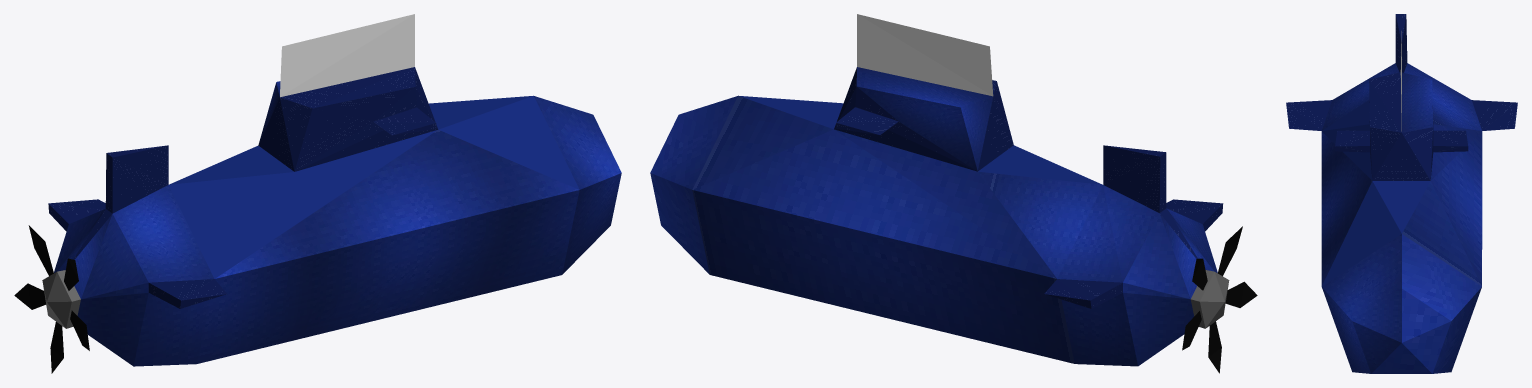
File: beach-_Submarine.fbx
3 views of the same model, side by side, from view 1: azimuth 30°, elevation 25°; view 2: azimuth 150°, elevation 25°; view 3: azimuth 270°, elevation 25° (orthographic). The views are drawn at different scales.
Parts seen in each view (by area): view 1: sub, propeller blade 0.004, propeller blade 0; view 2: sub, propeller blade 0.001, propeller blade 0; view 3: sub.
Boxes of the visible parts, left/top/right/bottom form: sub: left=42, top=14, right=621, bottom=366; propeller blade 0.004: left=14, top=283, right=46, bottom=309; propeller blade 0: left=50, top=322, right=63, bottom=373; sub: left=650, top=14, right=1229, bottom=366; propeller blade 0.001: left=1225, top=281, right=1257, bottom=307; propeller blade 0: left=1208, top=321, right=1221, bottom=373; sub: left=1286, top=14, right=1517, bottom=373.
Size of the model in its own units: 1.09 by 0.4434 by 0.5003.
Materials: 5 (1 with a texture image).
